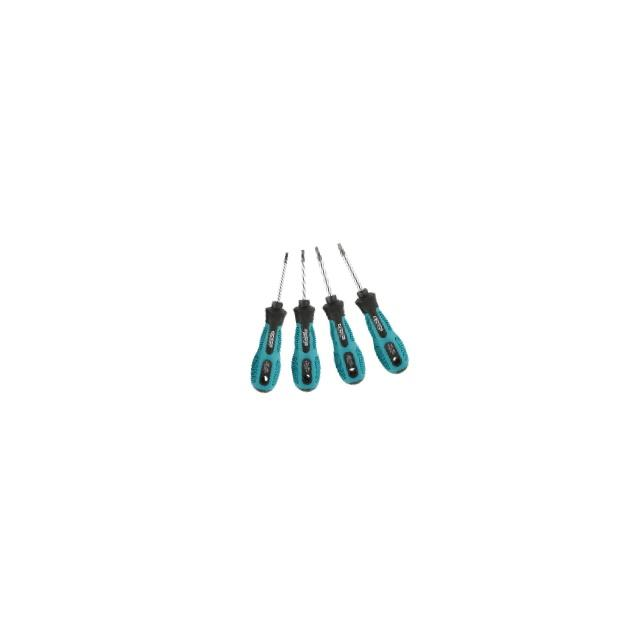screwdriver: (228, 248, 312, 396), (334, 232, 410, 381), (309, 240, 368, 388), (270, 246, 328, 394)
